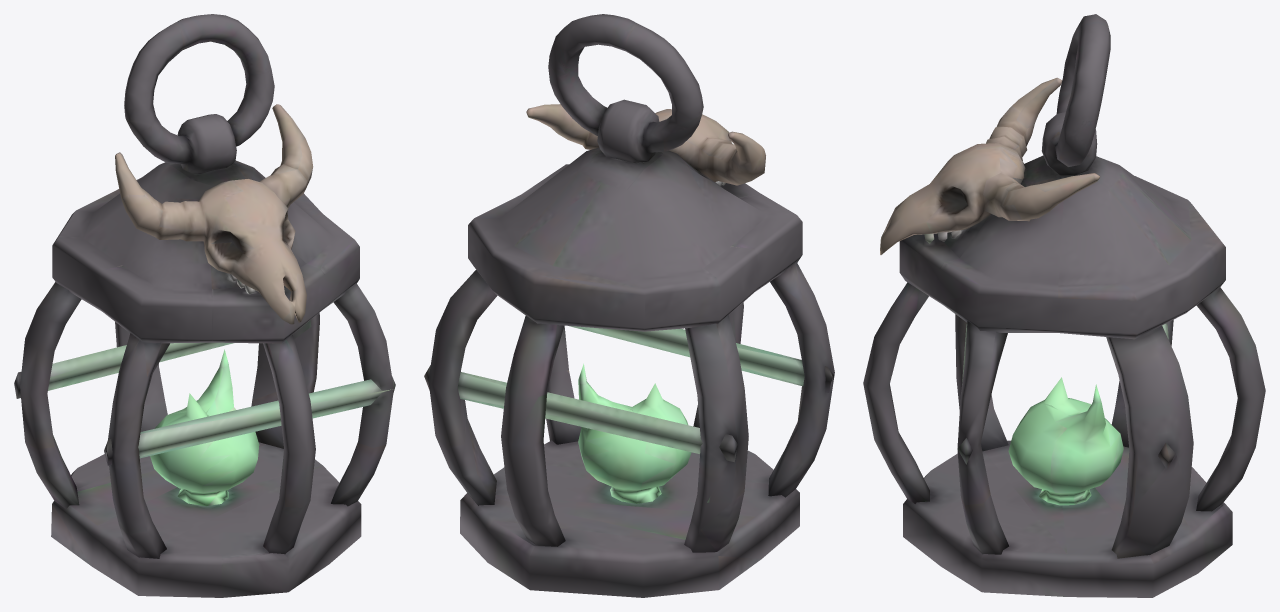
File: event_lantern.glb
3 renders of one model, left to right at view 1: azimuth 30°, elevation 25°; view 2: azimuth 150°, elevation 25°; view 3: azimuth 270°, elevation 25°, orthographic. The views are drawn at different scales.
Visible parts, largest first — view 1: event_lantern; view 2: event_lantern; view 3: event_lantern.
Part boxes in pixels (bbox=[...]): event_lantern: bbox=[14, 14, 395, 597]; event_lantern: bbox=[424, 14, 834, 597]; event_lantern: bbox=[863, 14, 1265, 597].
Size of the model in its own units: 0.9863 by 1.6 by 1.14.
1 material, 1 textured.
